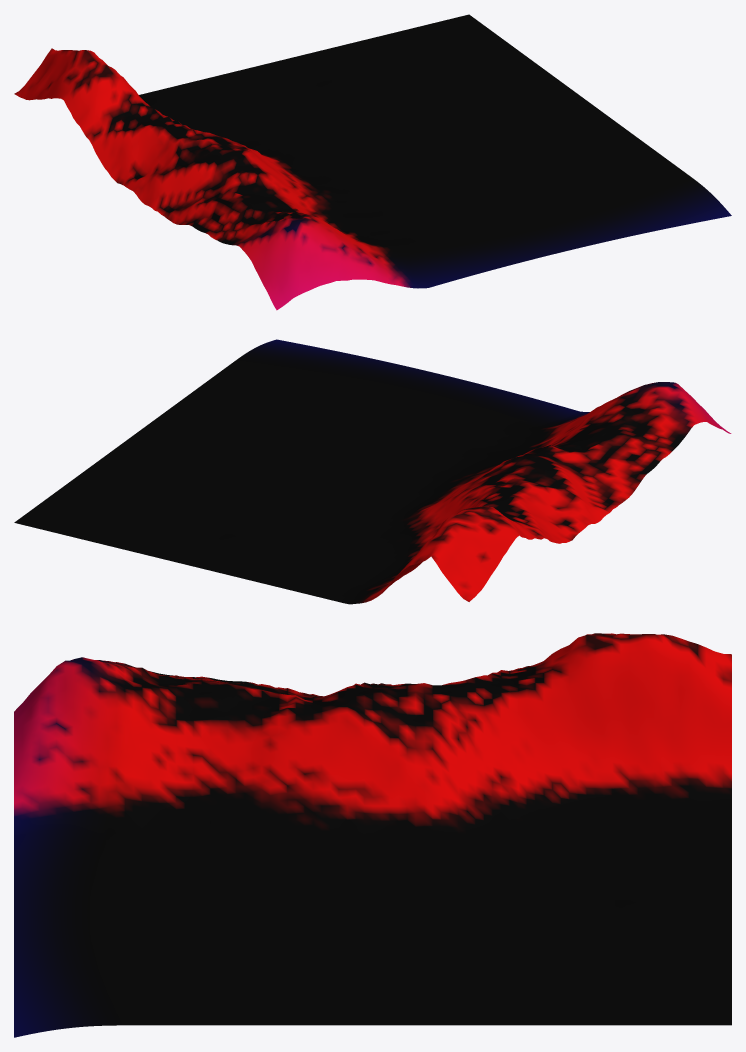
The model's file is SM_FutureCity_Terrain_1_1.fbx.
The picture shows the model from 3 angles, top to bottom: view 1: azimuth 30°, elevation 25°; view 2: azimuth 150°, elevation 25°; view 3: azimuth 270°, elevation 25°; orthographic projection. The views are drawn at different scales.
Visible parts, largest first — view 1: SM_FutureCity_Terrain_1_1; view 2: SM_FutureCity_Terrain_1_1; view 3: SM_FutureCity_Terrain_1_1.
Boxes of the visible parts, bbox=[...] form: SM_FutureCity_Terrain_1_1: bbox=[14, 14, 731, 310]; SM_FutureCity_Terrain_1_1: bbox=[14, 339, 731, 604]; SM_FutureCity_Terrain_1_1: bbox=[14, 633, 731, 1037].
Bounding box in the file's own units: 50400 × 10013 × 50400.
